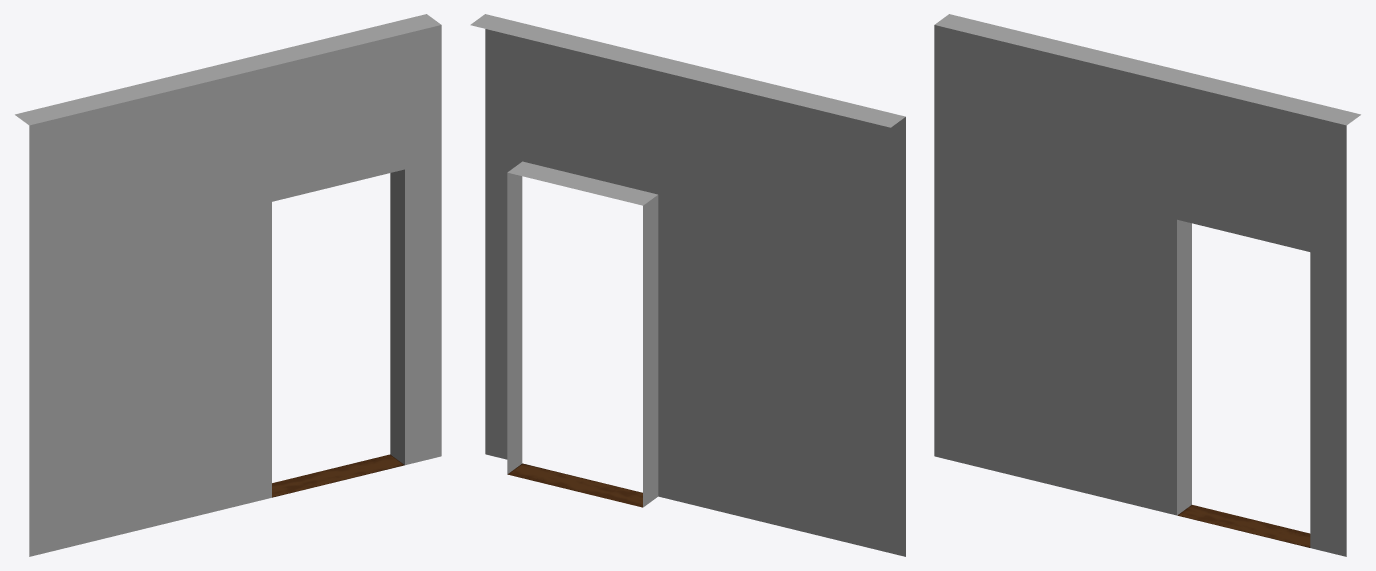
The model's file is Int_House_CwlSp_Entrance_02.fbx.
3 renders of one model, left to right at view 1: azimuth 30°, elevation 25°; view 2: azimuth 150°, elevation 25°; view 3: azimuth 330°, elevation 25°, orthographic. The views are drawn at different scales.
Parts seen in each view (by area): view 1: Int_House_CwlSp_Entrance_02; view 2: Int_House_CwlSp_Entrance_02; view 3: Int_House_CwlSp_Entrance_02.
Boxes of the visible parts, bbox=[...] form: Int_House_CwlSp_Entrance_02: bbox=[15, 14, 441, 556]; Int_House_CwlSp_Entrance_02: bbox=[470, 14, 905, 556]; Int_House_CwlSp_Entrance_02: bbox=[934, 14, 1360, 556].
Bounding box in the file's own units: 400 × 400 × 25.
2 materials, 1 textured.
